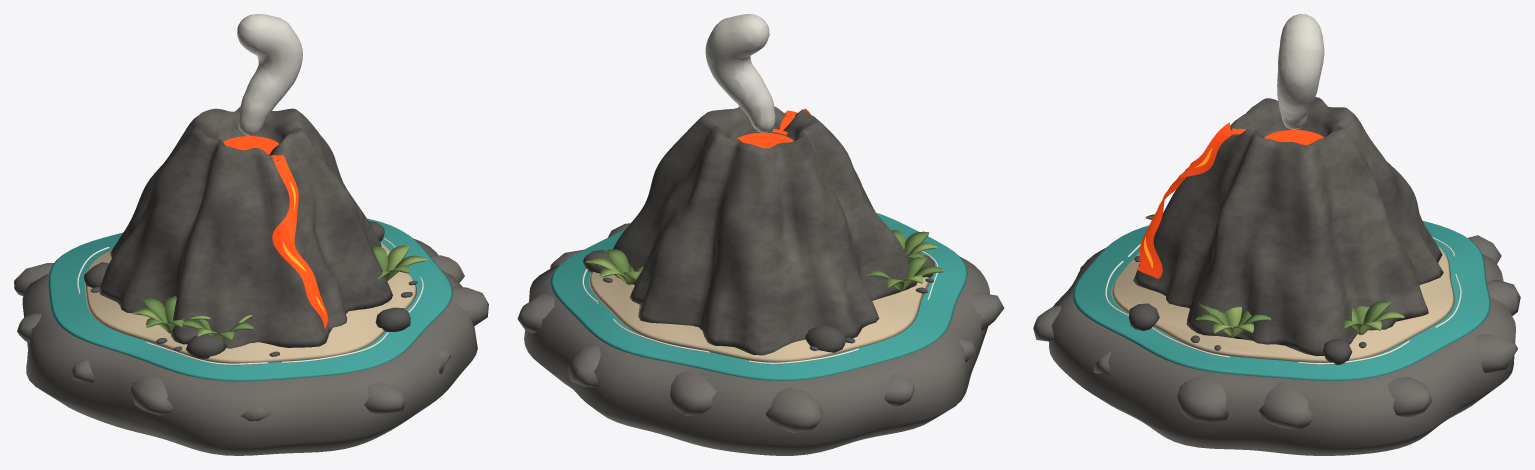
The model's file is volcano-island-v5.fbx.
3 views of the same model, side by side, from view 1: azimuth 30°, elevation 25°; view 2: azimuth 150°, elevation 25°; view 3: azimuth 270°, elevation 25° (orthographic). The views are drawn at different scales.
Parts seen in each view (by area): view 1: Volcano | hollow fluted mountain, Rock | irregular island foundation, Water | enclosed turquoise lagoon, Sand | island shore, Smoke | blended plume.001, Lava | continuous winding flow, Rock | shoreline boulder.007, Rock | shoreline boulder.009, Rock | shoreline boulder.011, Rock | beach stone, Rock | beach stone.001, Lava | crater pool (+1 smaller); view 2: Volcano | hollow fluted mountain, Rock | irregular island foundation, Water | enclosed turquoise lagoon, Sand | island shore, Smoke | blended plume.001, Rock | shoreline boulder.004, Rock | shoreline boulder.003, Rock | shoreline boulder.002, Rock | shoreline boulder.001, Rock | beach stone.003, Rock | shoreline boulder.007, Rock | shoreline boulder.005 (+1 smaller); view 3: Volcano | hollow fluted mountain, Rock | irregular island foundation, Water | enclosed turquoise lagoon, Sand | island shore, Smoke | blended plume.001, Lava | continuous winding flow, Rock | shoreline boulder.011, Rock | shoreline boulder, Rock | shoreline boulder.001, Rock | shoreline boulder.002, Rock | shoreline boulder.003, Rock | beach stone.001 (+3 smaller).
Part boxes in pixels (box(x1,y1,x2,y2)): Volcano | hollow fluted mountain: box(99, 106, 392, 348); Rock | irregular island foundation: box(22, 238, 477, 455); Water | enclosed turquoise lagoon: box(48, 218, 452, 381); Sand | island shore: box(84, 242, 416, 363); Smoke | blended plume.001: box(237, 14, 302, 135); Lava | continuous winding flow: box(272, 154, 328, 328); Rock | shoreline boulder.007: box(131, 376, 173, 415); Rock | shoreline boulder.009: box(364, 383, 405, 414); Rock | shoreline boulder.011: box(452, 286, 488, 326); Rock | beach stone: box(185, 334, 226, 358); Rock | beach stone.001: box(375, 307, 410, 331); Lava | crater pool: box(223, 136, 278, 154); Volcano | hollow fluted mountain: box(613, 106, 917, 355); Rock | irregular island foundation: box(524, 257, 989, 455); Water | enclosed turquoise lagoon: box(550, 212, 967, 380); Sand | island shore: box(589, 271, 931, 362); Smoke | blended plume.001: box(705, 14, 775, 132); Rock | shoreline boulder.004: box(765, 388, 822, 432); Rock | shoreline boulder.003: box(670, 372, 716, 415); Rock | shoreline boulder.002: box(567, 345, 600, 387); Rock | shoreline boulder.001: box(517, 294, 554, 333); Rock | beach stone.003: box(805, 324, 845, 352); Rock | shoreline boulder.007: box(971, 293, 1004, 330); Rock | shoreline boulder.005: box(884, 375, 914, 406); Volcano | hollow fluted mountain: box(1133, 97, 1443, 356); Rock | irregular island foundation: box(1049, 248, 1515, 455); Water | enclosed turquoise lagoon: box(1072, 221, 1490, 380); Sand | island shore: box(1111, 246, 1454, 362); Smoke | blended plume.001: box(1277, 14, 1324, 129); Lava | continuous winding flow: box(1137, 122, 1236, 278); Rock | shoreline boulder.011: box(1177, 375, 1228, 422); Rock | shoreline boulder: box(1259, 381, 1313, 429); Rock | shoreline boulder.001: box(1388, 377, 1432, 417); Rock | shoreline boulder.002: box(1475, 334, 1517, 372); Rock | shoreline boulder.003: box(1487, 279, 1520, 315); Rock | beach stone.001: box(1129, 303, 1159, 330).
Bounding box in the file's own units: 165 × 135 × 164.
11 materials, 1 textured.
